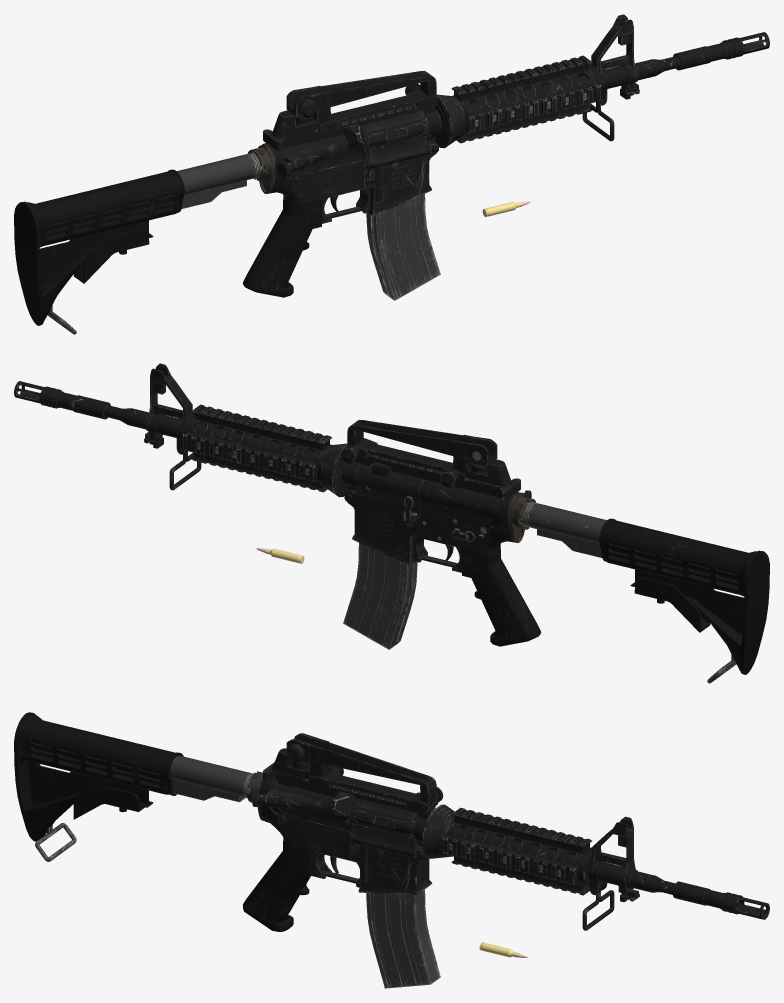
3 renders of one model, top to bottom at view 1: azimuth 30°, elevation 25°; view 2: azimuth 150°, elevation 25°; view 3: azimuth 330°, elevation 25°, orthographic.
Parts seen in each view (by area): view 1: Body, Stock, Scope, Magazine; view 2: Body, Stock, Scope, Magazine; view 3: Body, Stock, Scope, Magazine.
Part boxes in pixels (x1,y1,x2,y2): Body: [243, 14, 769, 297]; Stock: [14, 152, 263, 334]; Scope: [272, 70, 437, 137]; Magazine: [366, 194, 440, 300]; Body: [14, 363, 540, 646]; Stock: [520, 501, 769, 683]; Scope: [340, 419, 511, 487]; Magazine: [343, 542, 417, 649]; Body: [243, 762, 769, 931]; Stock: [14, 712, 252, 861]; Scope: [272, 733, 443, 812]; Magazine: [366, 889, 440, 988].
Bounding box in the file's own units: 3.35 × 0.9762 × 0.2559.
5 materials, 5 textured.
